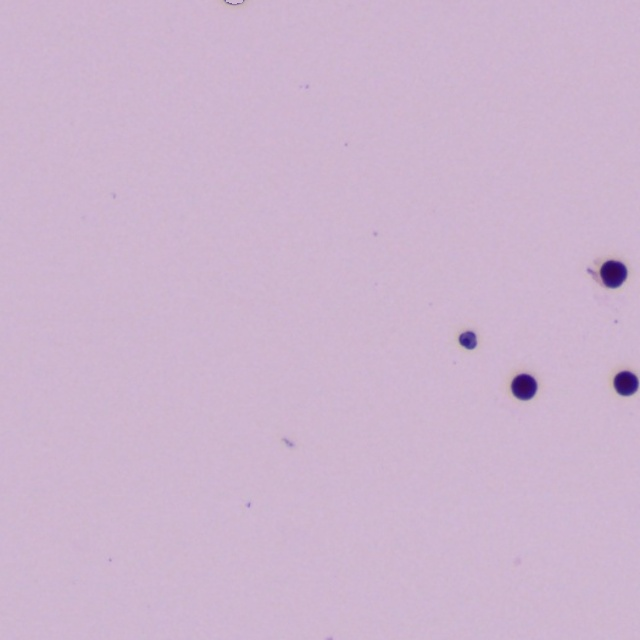non_viable: (459, 331, 476, 348)
viable: (600, 261, 625, 287), (511, 374, 536, 399), (614, 371, 639, 394)
